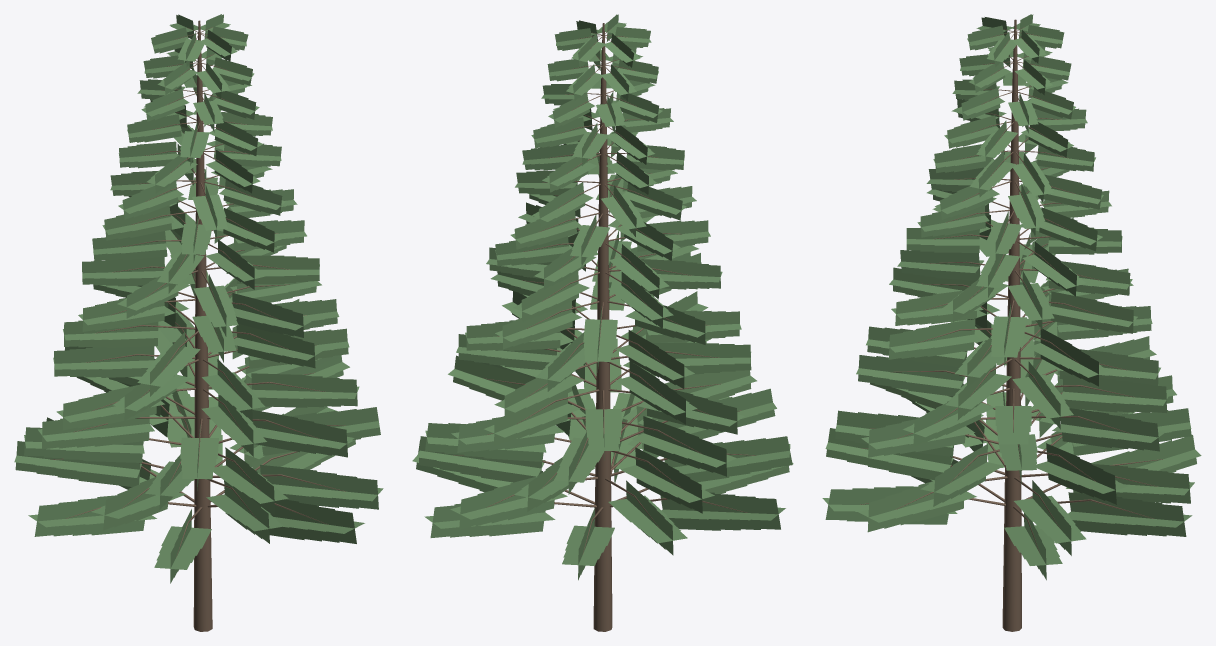
File: pine3d.glb
3 renders of one model, left to right at view 1: azimuth 30°, elevation 25°; view 2: azimuth 150°, elevation 25°; view 3: azimuth 270°, elevation 25°, orthographic.
Visible parts, largest first — view 1: leaves, trunk; view 2: leaves, trunk; view 3: leaves, trunk.
Boxes of the visible parts, left/top/right/bottom form: leaves: left=14, top=14, right=383, bottom=583; trunk: left=50, top=20, right=345, bottom=631; leaves: left=412, top=14, right=793, bottom=580; trunk: left=453, top=23, right=756, bottom=631; leaves: left=822, top=14, right=1201, bottom=580; trunk: left=860, top=19, right=1163, bottom=631.
Size of the model in its own units: 7.72 by 13 by 7.36.
